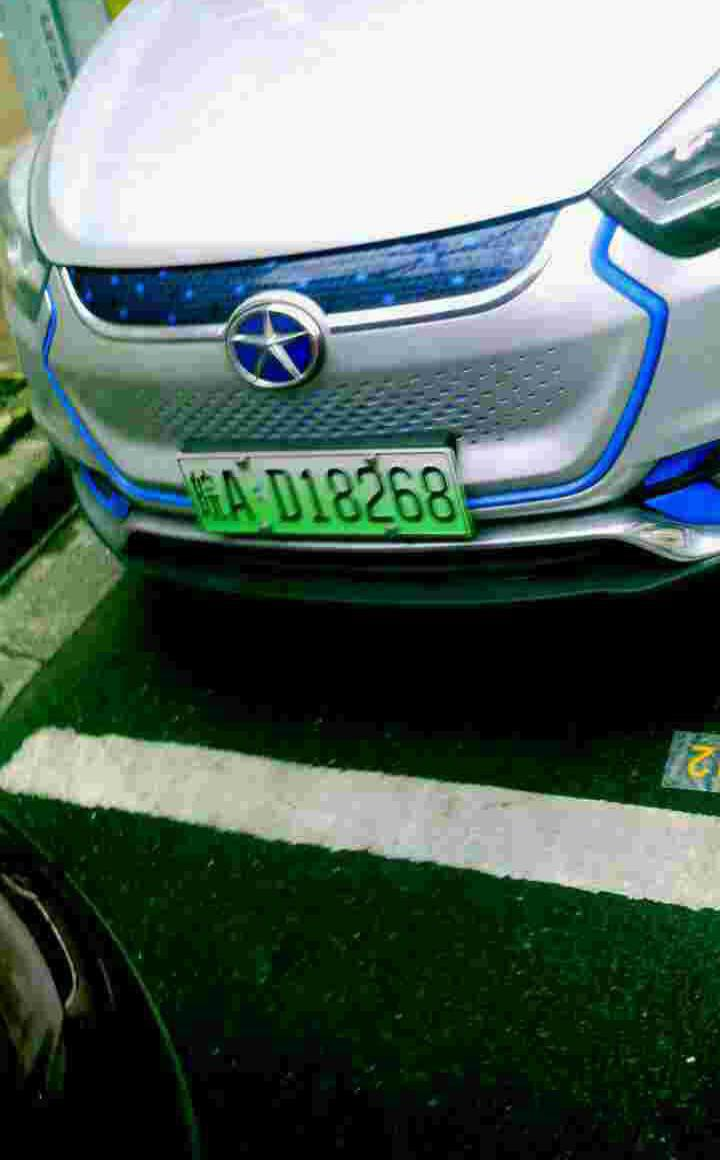car_id: (178, 450, 469, 536)
